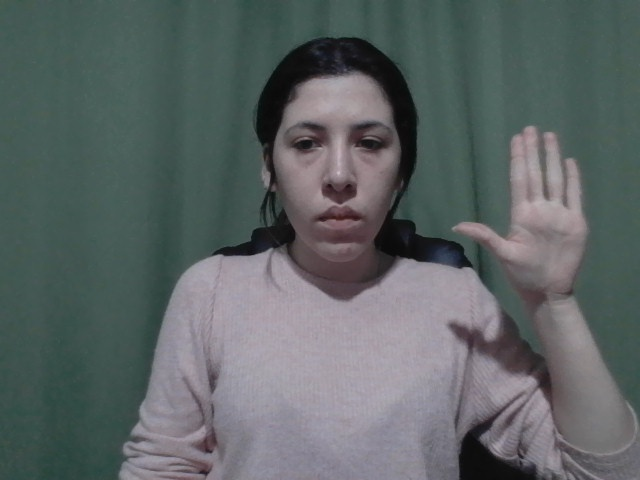HOLA: (447, 116, 615, 267)
